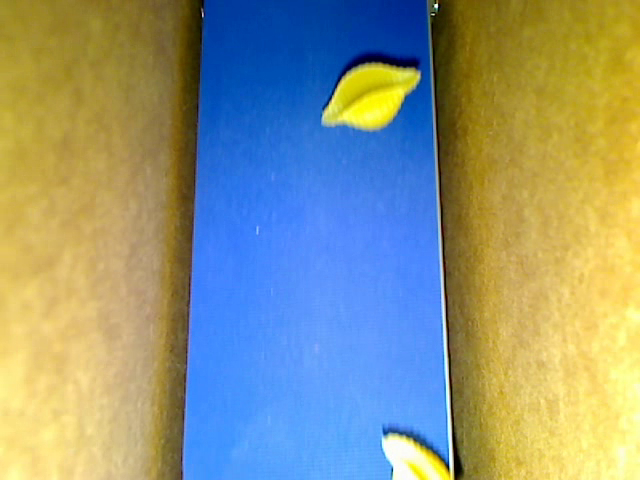shell: (322, 63, 420, 129), (381, 432, 449, 479)
